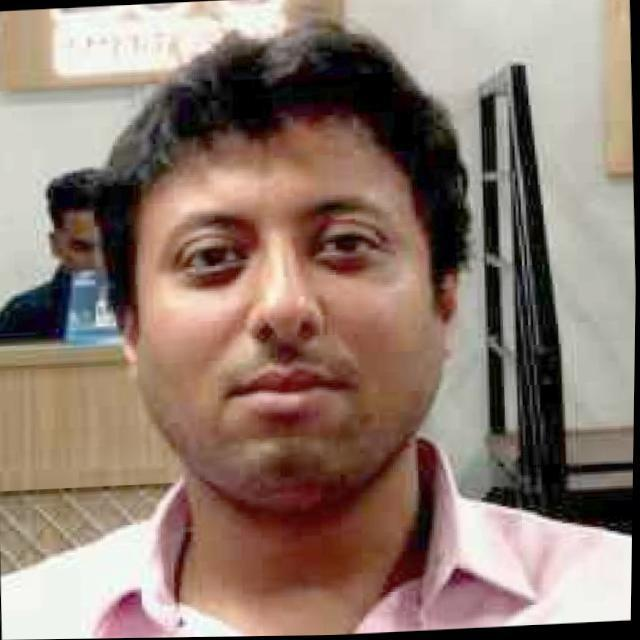puffy_eyes: (183, 264, 249, 289), (315, 256, 385, 274)
